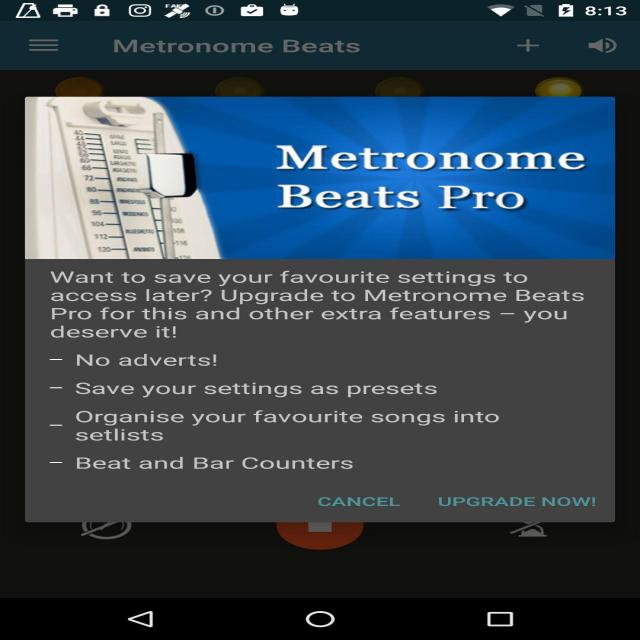button: (428, 492, 608, 516), (275, 517, 376, 551), (289, 492, 417, 517), (487, 23, 555, 67), (14, 30, 78, 66), (569, 31, 638, 64), (491, 522, 587, 542), (118, 608, 169, 637), (77, 518, 135, 543), (473, 606, 524, 634), (296, 606, 344, 633)
icon: (7, 0, 580, 21), (436, 599, 561, 640), (269, 513, 380, 556), (271, 602, 374, 639), (481, 519, 593, 548), (67, 512, 152, 548), (104, 601, 179, 640), (20, 34, 67, 66), (500, 31, 548, 60), (580, 38, 626, 62)
image: (22, 93, 616, 263)
text: (30, 264, 597, 488), (272, 136, 594, 228), (99, 35, 389, 59), (435, 494, 600, 511), (578, 2, 640, 20), (318, 495, 403, 508)
